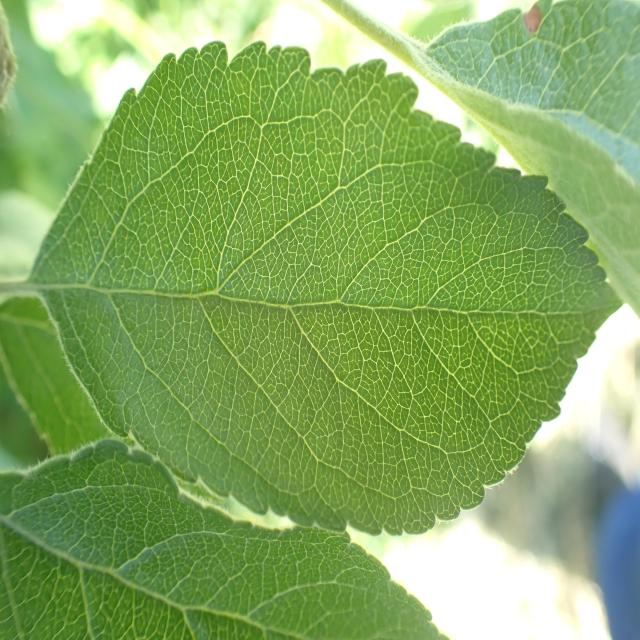frog-eye-leaf-spot: (424, 1, 640, 321)
healthy: (29, 38, 624, 538), (0, 439, 451, 640)
